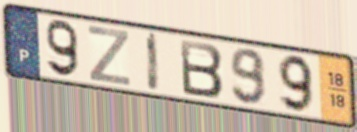9: (275, 54, 316, 115), (230, 46, 269, 107), (45, 19, 81, 79)
B: (178, 37, 226, 100)
I: (145, 30, 161, 95)
Z: (86, 24, 132, 88)
